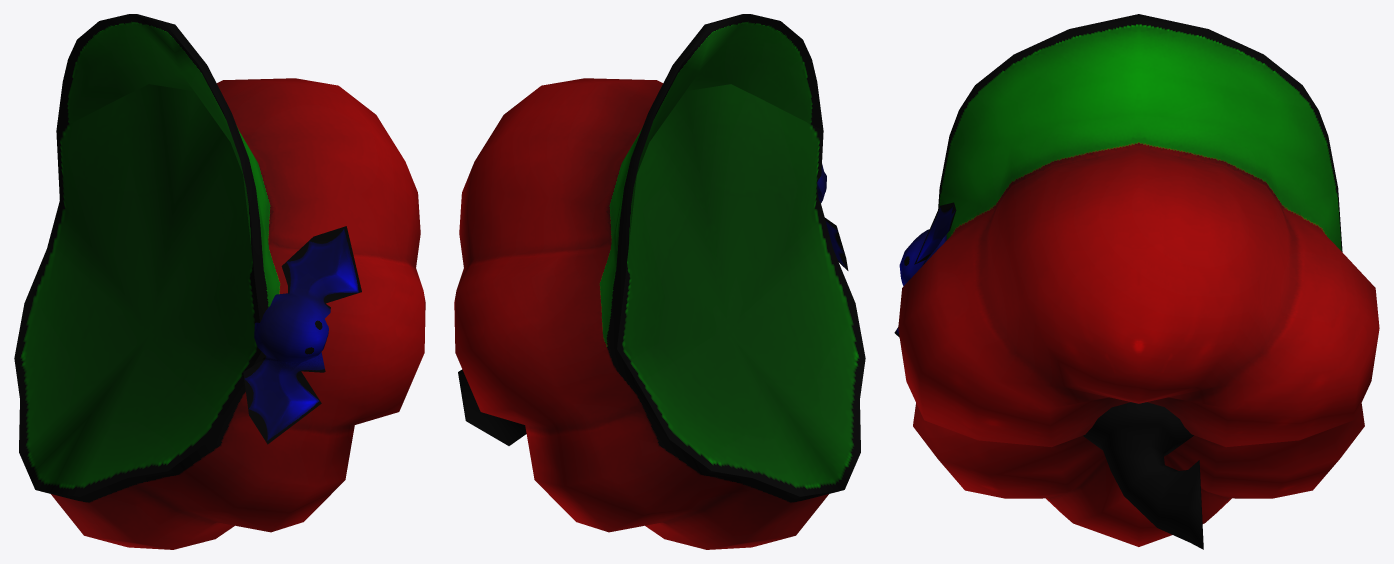
3 renders of one model, left to right at view 1: azimuth 30°, elevation 25°; view 2: azimuth 150°, elevation 25°; view 3: azimuth 270°, elevation 25°, orthographic.
Parts seen in each view (by area): view 1: C1151; view 2: C1151; view 3: C1151.
Part boxes in pixels (x1=…): C1151: x1=14, y1=14, x2=425, y2=549; C1151: x1=454, y1=14, x2=865, y2=549; C1151: x1=894, y1=14, x2=1379, y2=549.
Bounding box in the file's own units: 0.4574 × 0.6171 × 0.5223.
